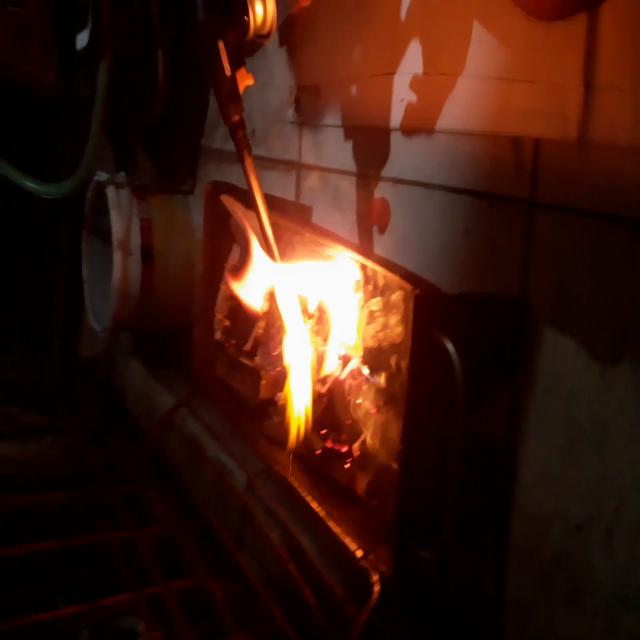Fire: (249, 243, 382, 456)
